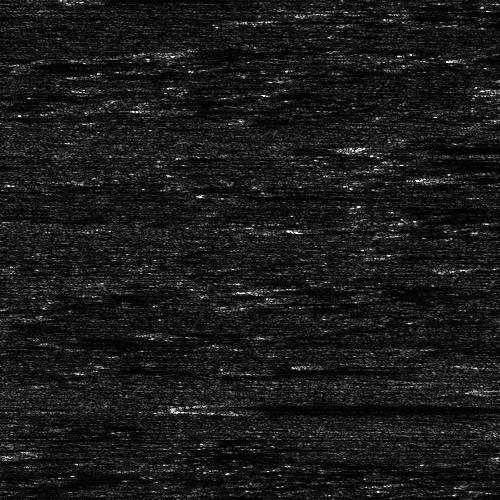rock: (141, 402, 286, 415), (444, 79, 500, 96), (226, 15, 319, 24), (329, 145, 412, 152), (470, 385, 500, 390), (236, 368, 277, 371), (57, 0, 110, 1)
shadow: (214, 402, 476, 415), (371, 145, 500, 152), (273, 15, 371, 24), (257, 368, 390, 371), (84, 0, 221, 1)
